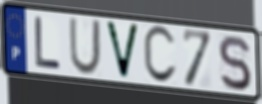7: (181, 28, 212, 89)
C: (141, 23, 179, 86)
L: (32, 14, 63, 71)
S: (216, 33, 253, 93)
U: (67, 16, 102, 77)
V: (103, 19, 142, 82)
